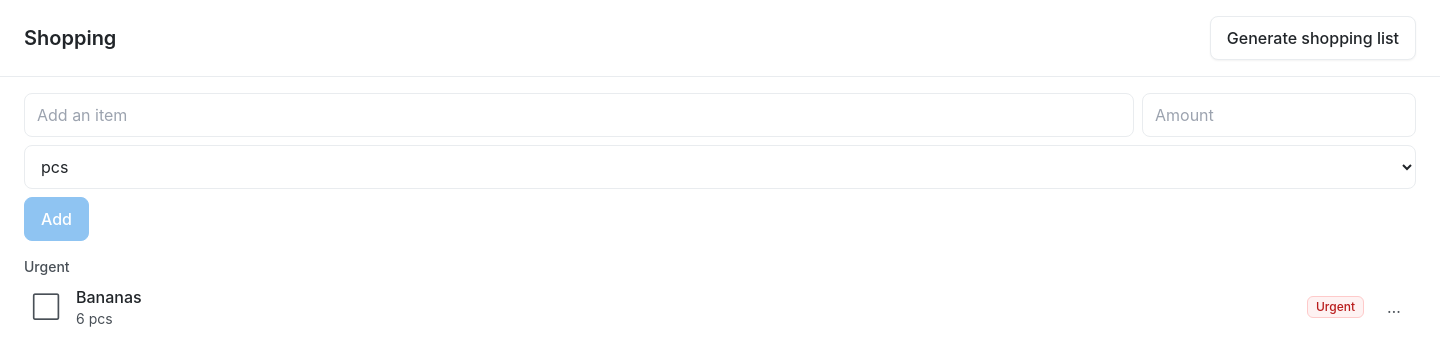
Test: The Shopping screen › removes an item
Expected: the text "Bananas" is shown, [76,287,142,307]
What coordinates should you click on to do the following:
click the button named "Remove Bananas"
I would click on:
 (1394, 307)
Its box is [1372,285,1416,329].
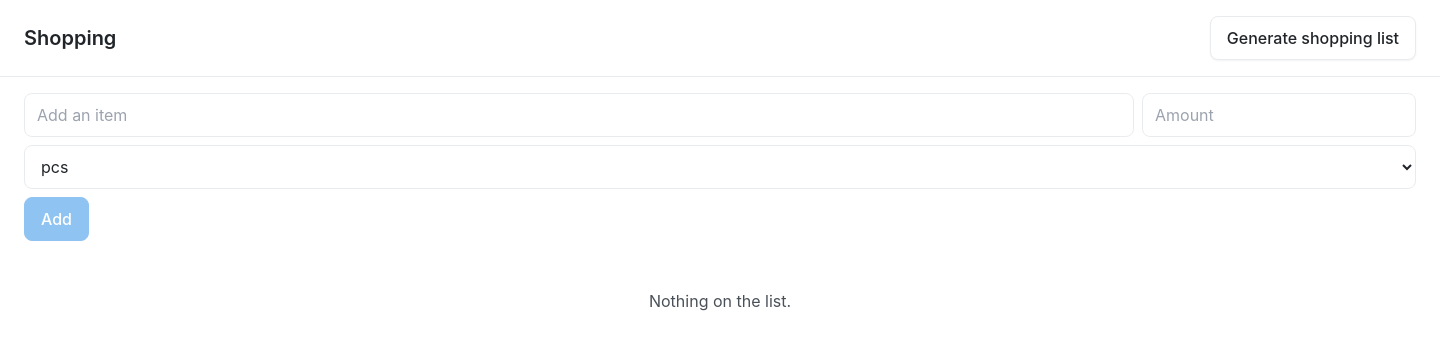
Result: the text "Bananas" is gone
